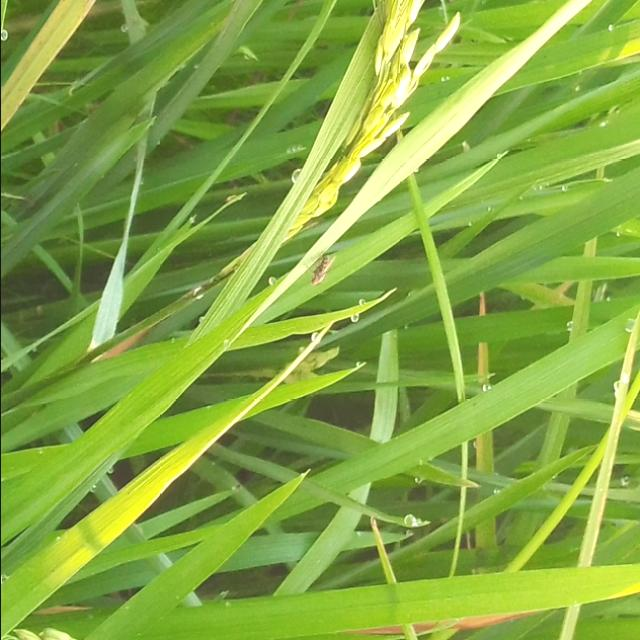Lalat: (298, 244, 336, 298)
